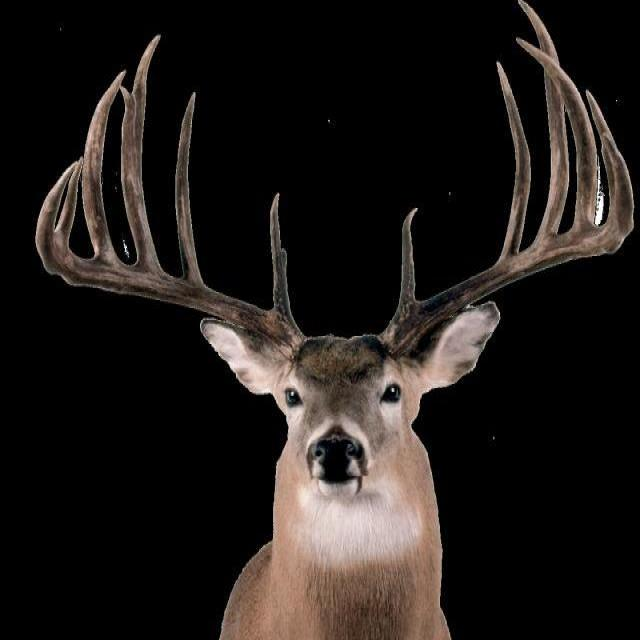deer: (34, 13, 640, 640)
